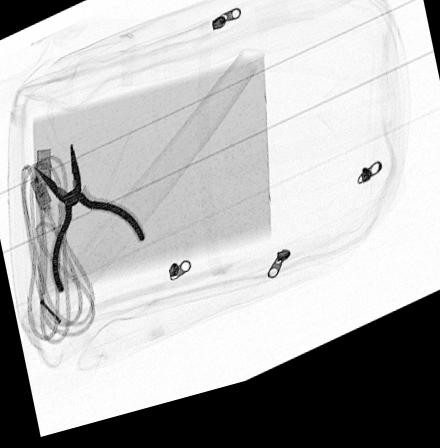Pliers: (33, 143, 144, 297)
